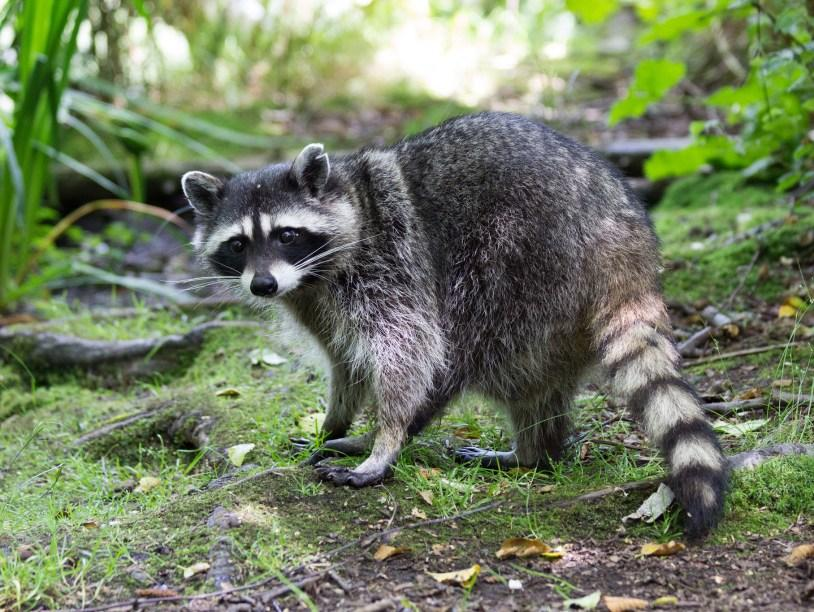raccoon: (180, 112, 734, 546)
